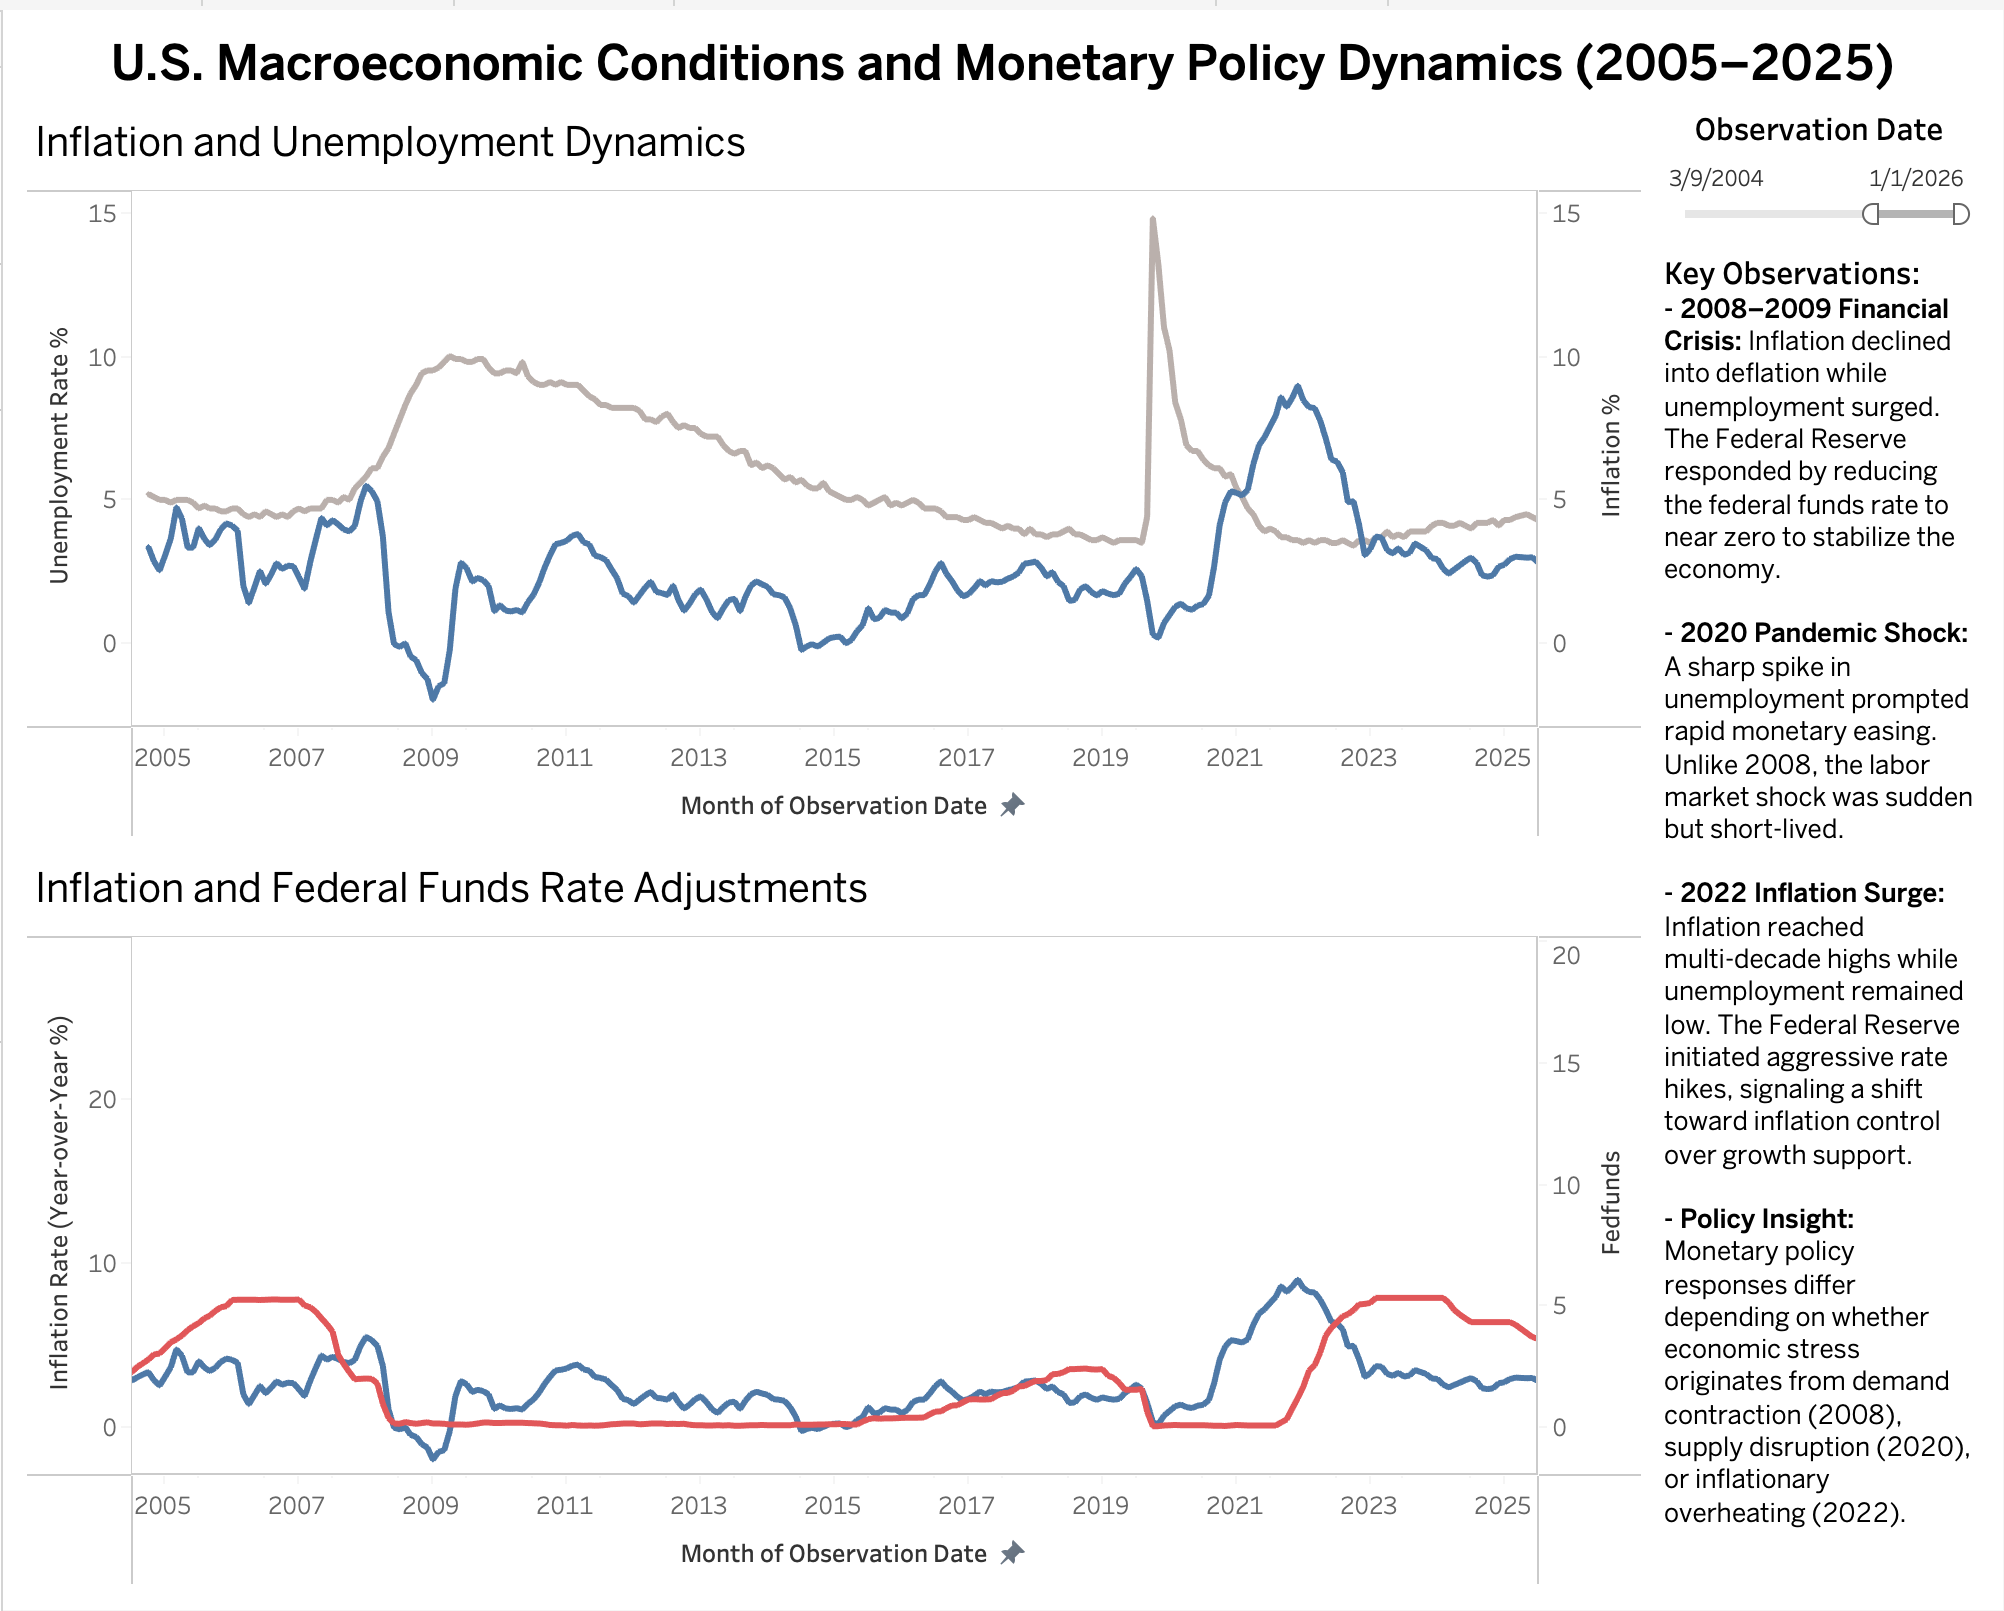

What the dashboard file says about the page in this screenshot:
{"tool":"tableau","page":{"name":"Dashboard 1","canvas":[1000,800],"ordinal":0},"visuals":[{"type":"title","box":[8,8,984,37]},{"type":"worksheet","title":"Chart 1","mark":"Automatic","rows":["UNRATE","Calculation_0191422246518784"],"cols":["observation_date"],"box":[8,45,816,373.5]},{"type":"filter","title":"Chart 1","param":"[federated.10tsc6g1orta7m1ctx1bl1qturzn].[none:observation_date:qk]","box":[824,45,168,72]},{"type":"text","box":[824,117,168,671]},{"type":"worksheet","title":"Chart 2","mark":"Automatic","rows":["Calculation_0191422246518784","FEDFUNDS"],"cols":["observation_date"],"box":[8,418.5,816,373.5]}]}

Visuals, with their boxes in screenshot pixels (x1, y1, x2, y2), scaled from the page's 1000x800 canvas onto the 2004x1611 screenshot:
title: <box>16,16,1988,91</box>
"Chart 1" worksheet: <box>16,91,1651,843</box>
"Chart 1" filter: <box>1651,91,1988,236</box>
text: <box>1651,236,1988,1587</box>
"Chart 2" worksheet: <box>16,843,1651,1595</box>
